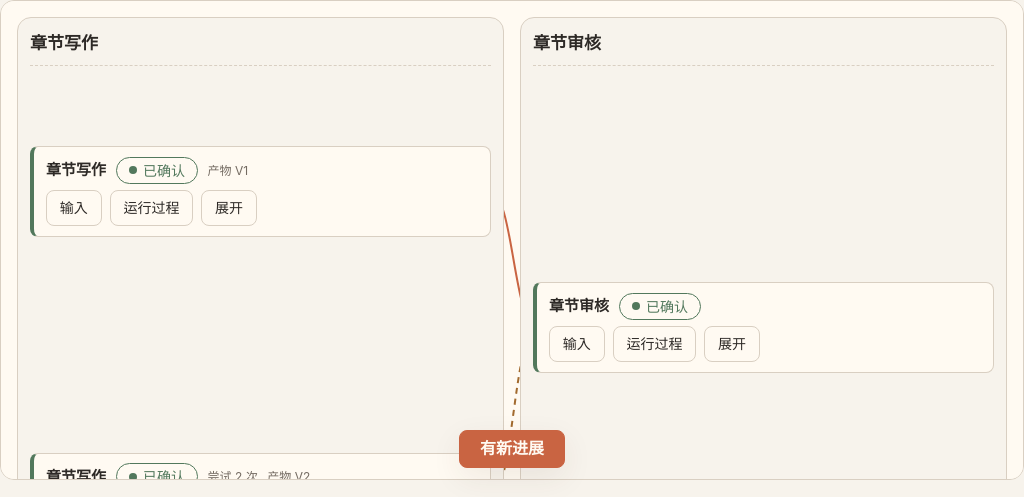
Test: WorkspaceCanvas › shows 有新进展 when new nodes arrive while viewing history
Click the button "有新进展" at (512, 449), box [459,430,565,468]
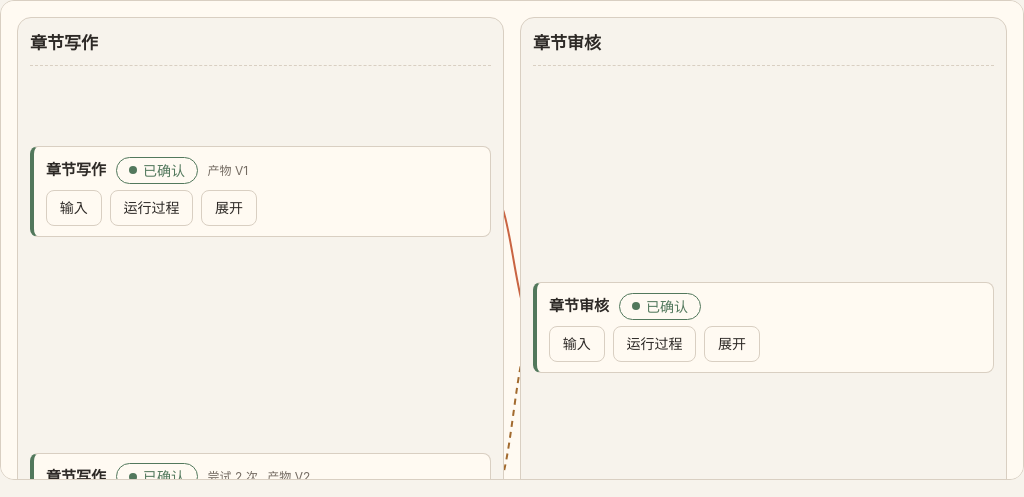
Check: the button "有新进展" is gone
